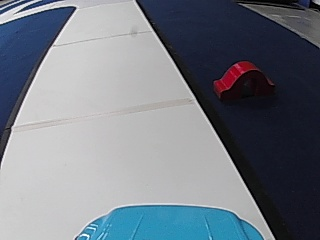bridge: (210, 56, 275, 101)
